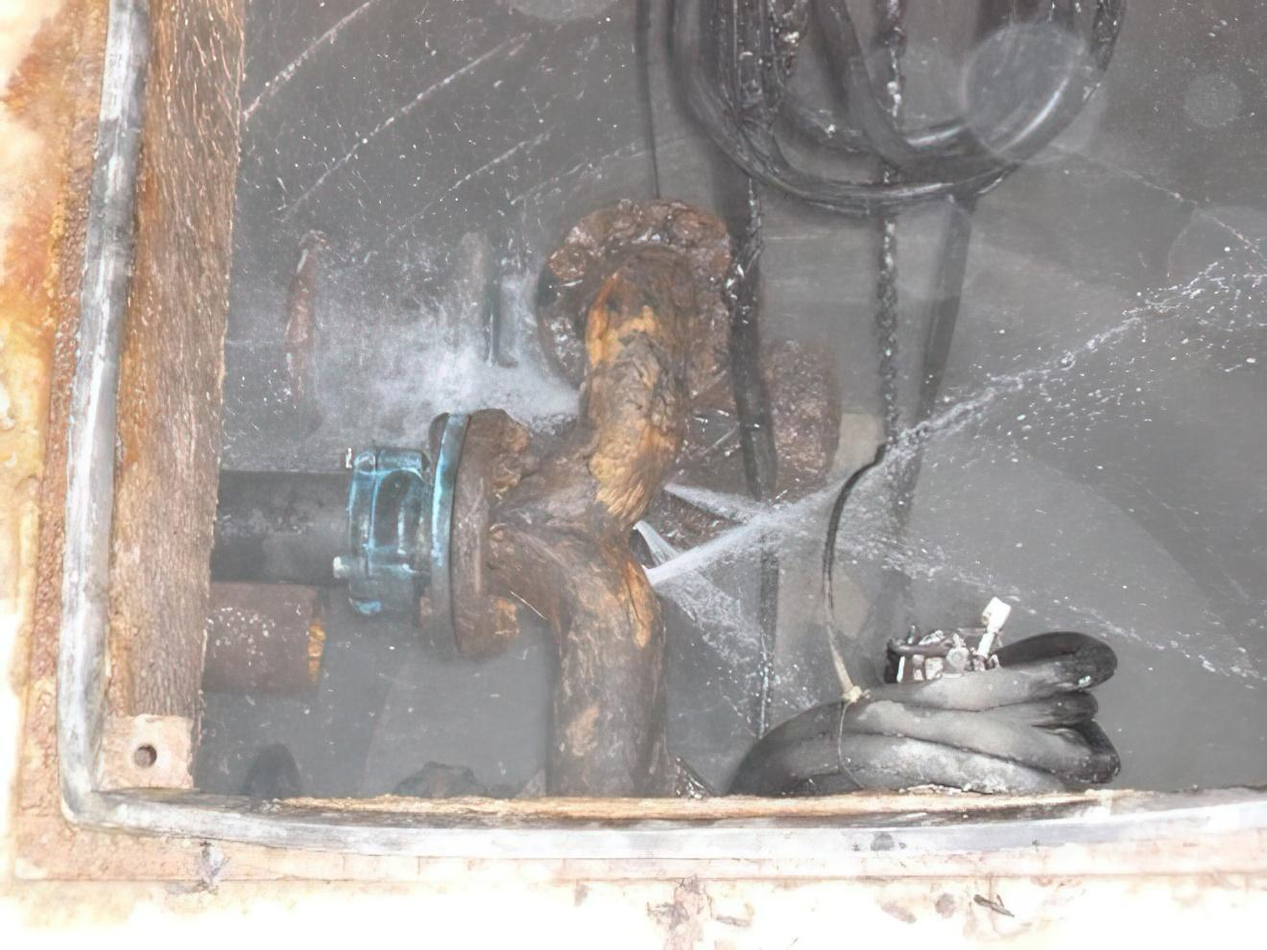pipe burst: (625, 253, 1267, 709), (301, 334, 591, 425)
